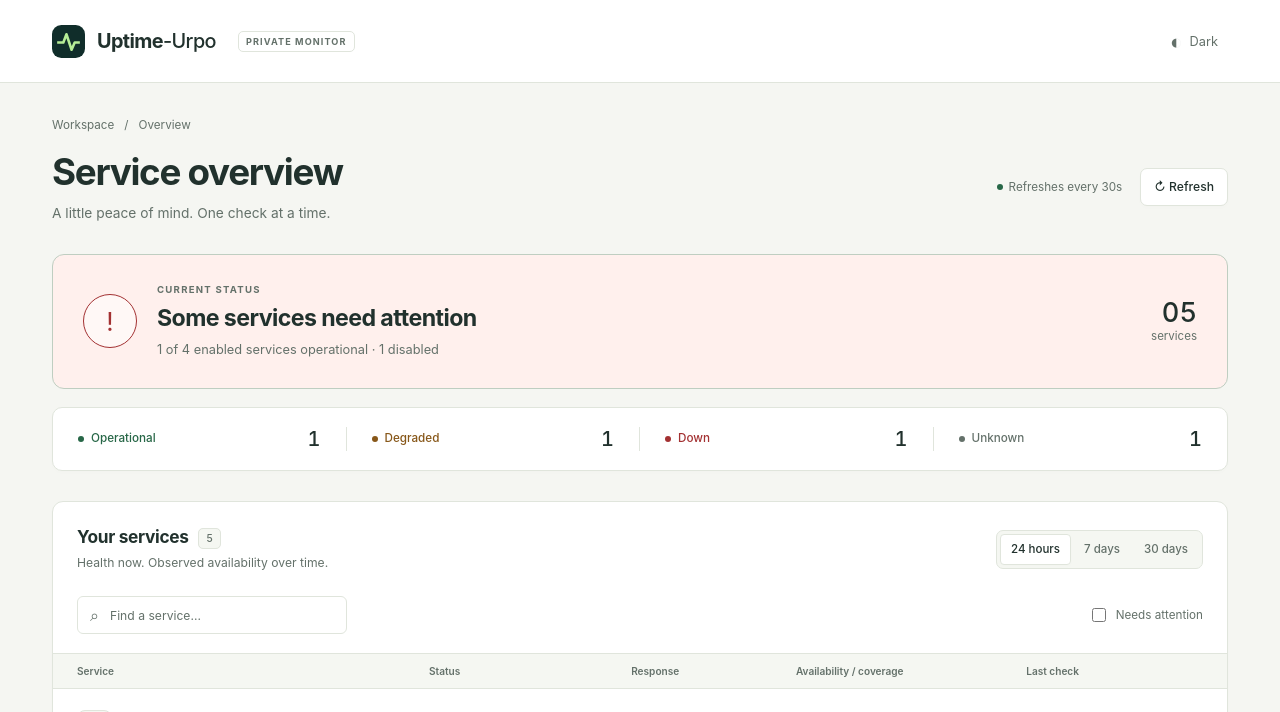
monitoring workspace › filters by name and attention and allows recovery from an empty filter
The width and height of the screenshot is (1280, 712).
Step 1. Click the checkbox labelled "Needs attention" → (1099,615), box [1092,608,1106,622]
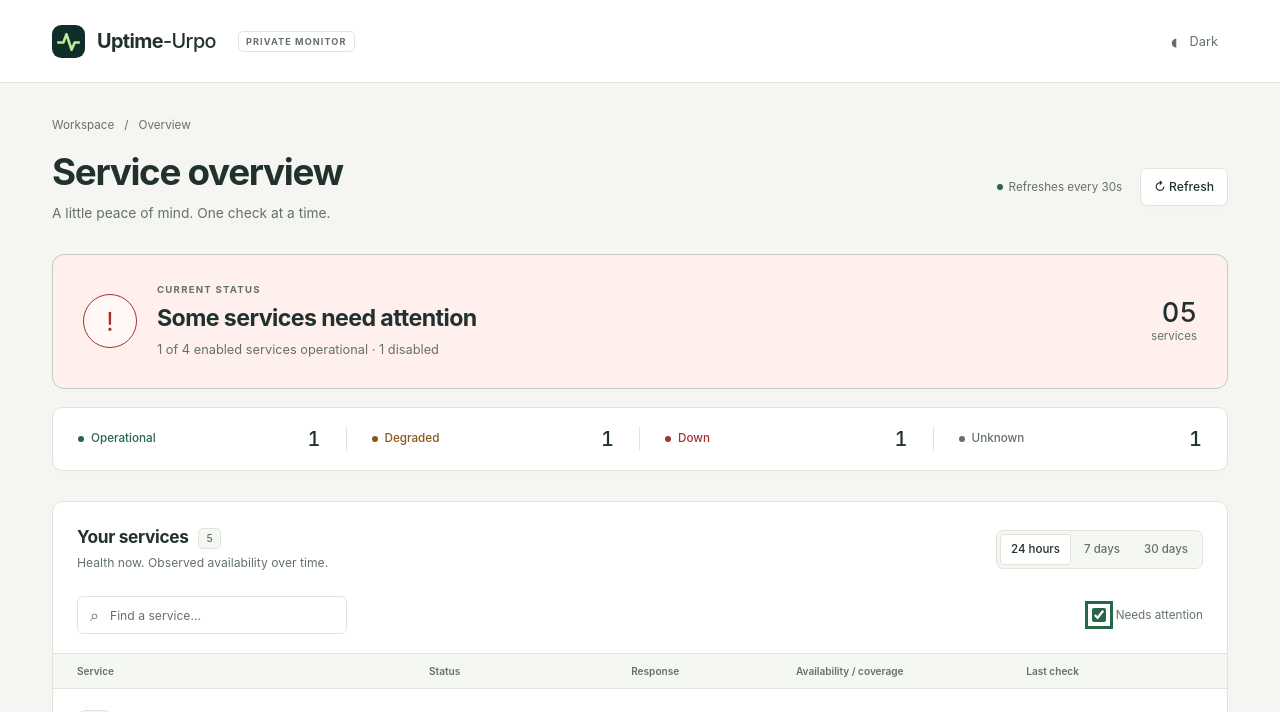
Step 2. Type "no match" into the search field → (221,615), box [108,607,334,624]
(page scrolled)
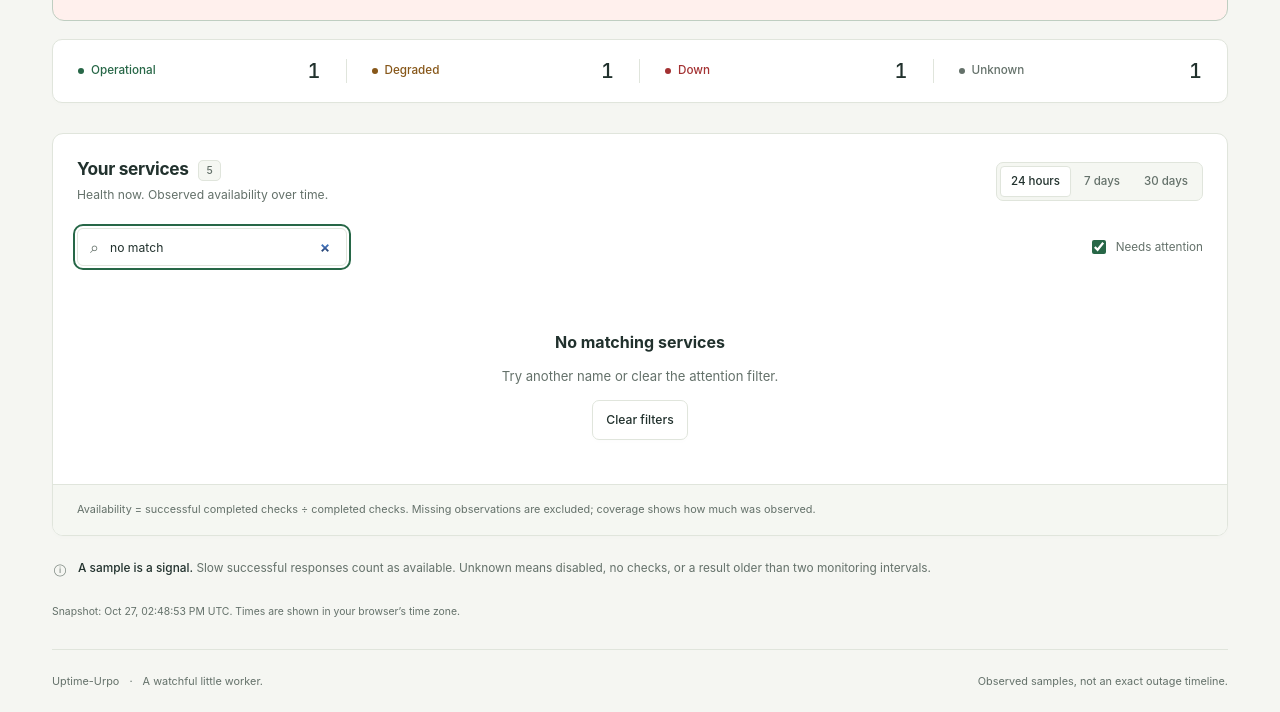
Result: the heading "No matching services" is shown at [555,332,725,352]
Step 3. Click the button "Clear filters" → (640,420), box [592,400,688,440]
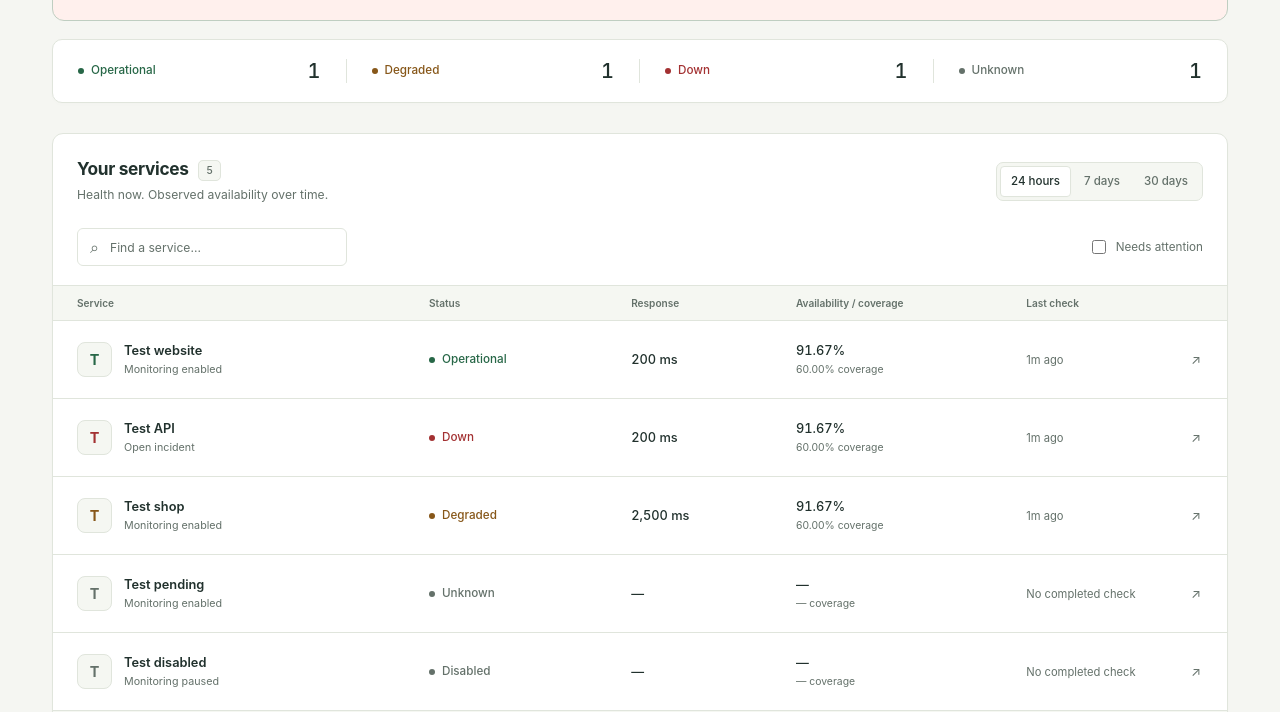
Result: the link with aria-label "View Test website, Operational" is shown at [53,320,1227,398]
